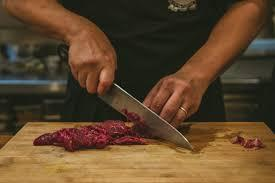Knife: (57, 43, 193, 150)
